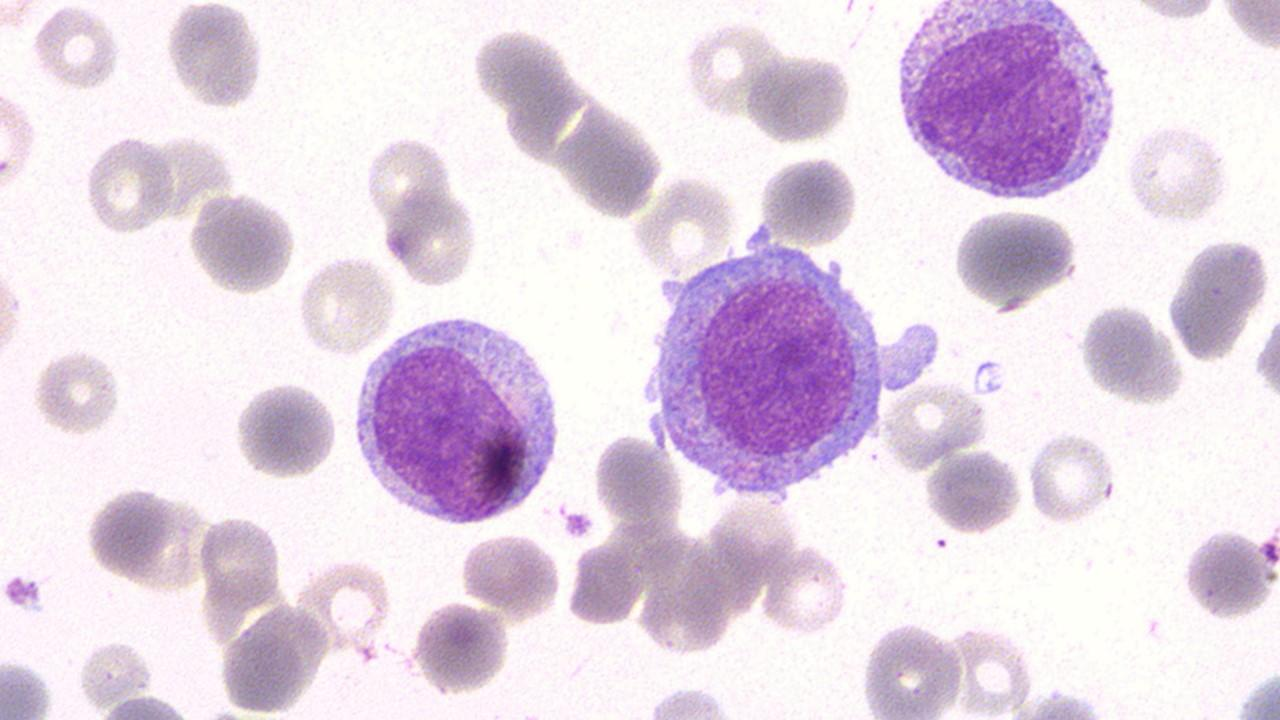Platelets: (164, 3, 270, 112), (230, 380, 339, 481), (744, 49, 856, 144), (758, 150, 858, 249), (409, 597, 508, 696), (1180, 526, 1276, 622), (1025, 686, 1111, 718), (1, 570, 43, 614), (970, 356, 1008, 397), (562, 506, 597, 542), (1256, 530, 1280, 574), (558, 225, 589, 254)
RBC: (0, 0, 338, 310), (1162, 232, 1270, 365), (1120, 119, 1234, 225), (628, 172, 738, 278), (233, 377, 343, 482), (186, 191, 296, 296), (857, 618, 967, 718), (294, 255, 397, 358), (746, 49, 855, 146), (682, 17, 782, 122), (878, 377, 989, 471), (756, 151, 862, 247), (380, 189, 482, 288), (407, 598, 510, 696), (457, 528, 564, 620), (298, 556, 394, 658), (82, 133, 177, 236), (592, 428, 686, 532), (942, 622, 1038, 718), (1025, 428, 1117, 528), (30, 343, 124, 439), (920, 449, 1023, 535), (81, 486, 175, 580), (218, 618, 308, 716), (760, 541, 850, 638), (198, 512, 283, 612), (363, 132, 453, 224), (30, 2, 122, 92), (564, 540, 644, 628), (76, 636, 154, 712), (0, 87, 40, 196), (1218, 1, 1278, 59), (644, 682, 738, 719), (0, 653, 55, 714), (0, 244, 24, 374), (1250, 304, 1280, 407), (1123, 0, 1229, 25)
WBC: (840, 0, 1278, 520), (643, 230, 894, 510), (346, 306, 567, 529), (888, 0, 1123, 206), (1166, 232, 1274, 364), (948, 203, 1083, 308), (1075, 298, 1185, 406), (160, 2, 270, 108), (1178, 520, 1278, 615), (83, 482, 177, 583), (1252, 298, 1280, 414)
